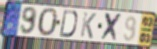9: (19, 7, 39, 37), (123, 14, 139, 42)
D: (58, 9, 79, 39)
K: (79, 11, 98, 40)
O: (37, 7, 59, 38)
X: (100, 12, 124, 42)
